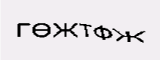А: (18, 15, 40, 44)
Е: (68, 13, 92, 46)
Ж: (95, 12, 112, 41)
П: (42, 12, 66, 44)
Ш: (112, 17, 130, 39)
